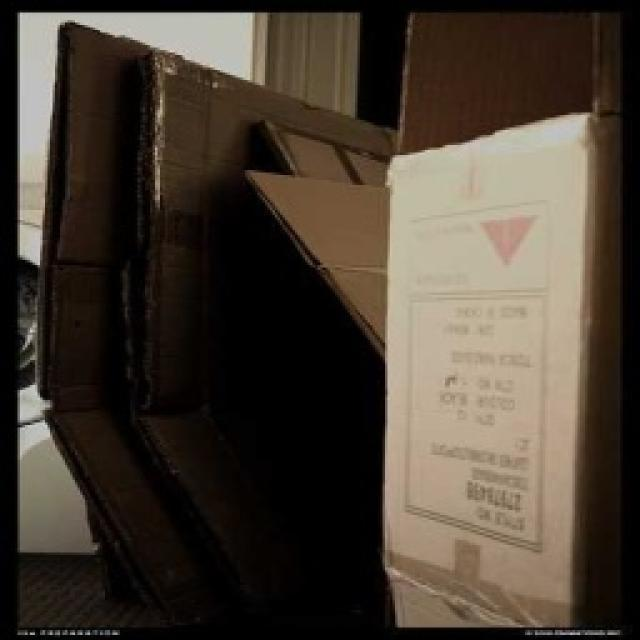box: (381, 143, 640, 640)
